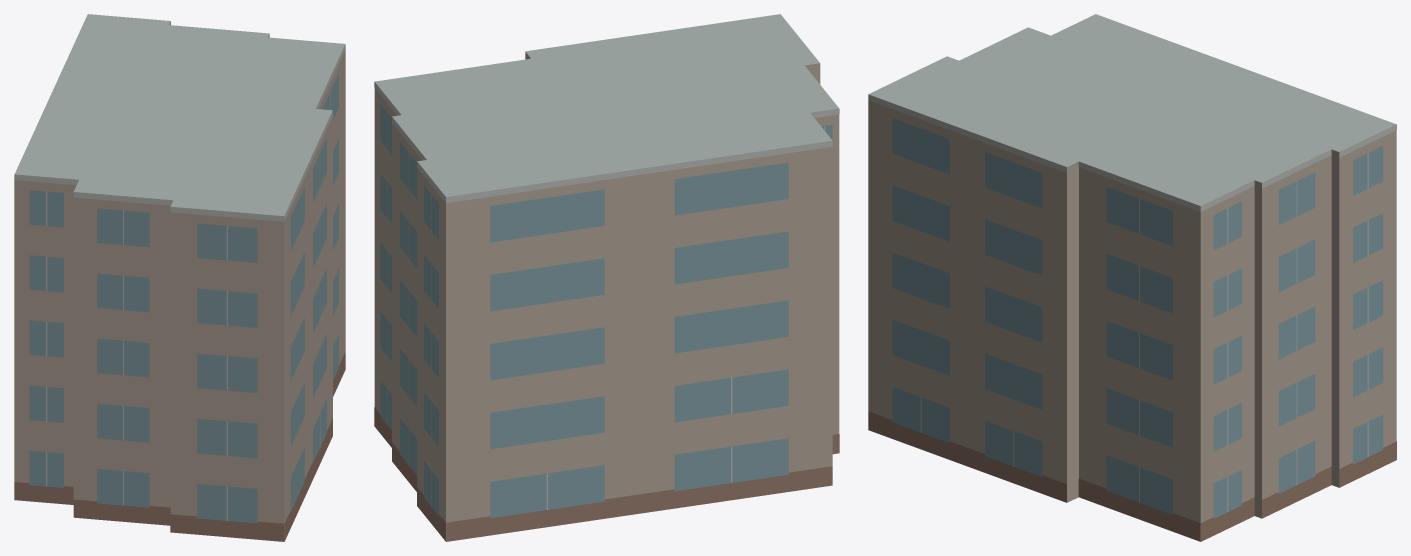
Rendered from survey-upis-32753895.glb.
3 renders of one model, left to right at view 1: azimuth 30°, elevation 25°; view 2: azimuth 150°, elevation 25°; view 3: azimuth 270°, elevation 25°, orthographic. The views are drawn at different scales.
Parts seen in each view (by area): view 1: survey-upis-32753895.tmp; view 2: survey-upis-32753895.tmp; view 3: survey-upis-32753895.tmp.
Part boxes in pixels (bbox=[...]): survey-upis-32753895.tmp: bbox=[14, 14, 345, 541]; survey-upis-32753895.tmp: bbox=[374, 14, 839, 541]; survey-upis-32753895.tmp: bbox=[868, 14, 1396, 541].
Bounding box in the file's own units: 17.19 × 14 × 19.98.
